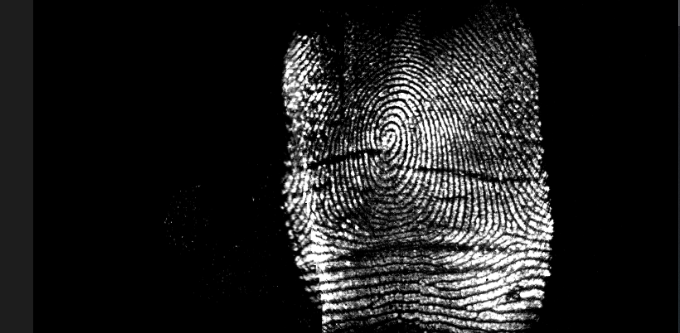deltas: (489, 202, 532, 248), (299, 190, 339, 237)
nucleo: (375, 117, 413, 162)
